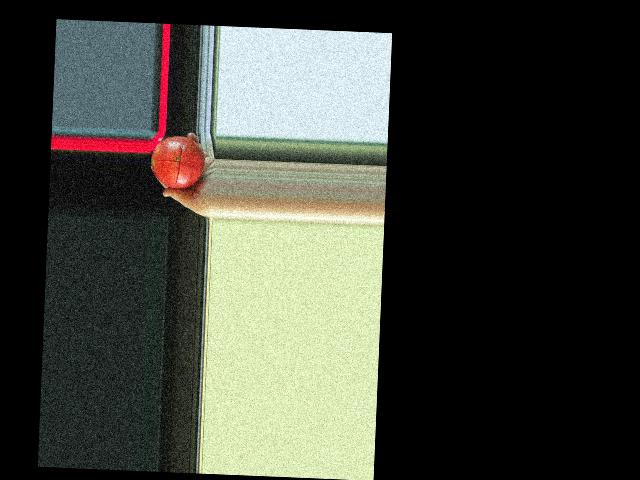tomato: (150, 134, 206, 189)
